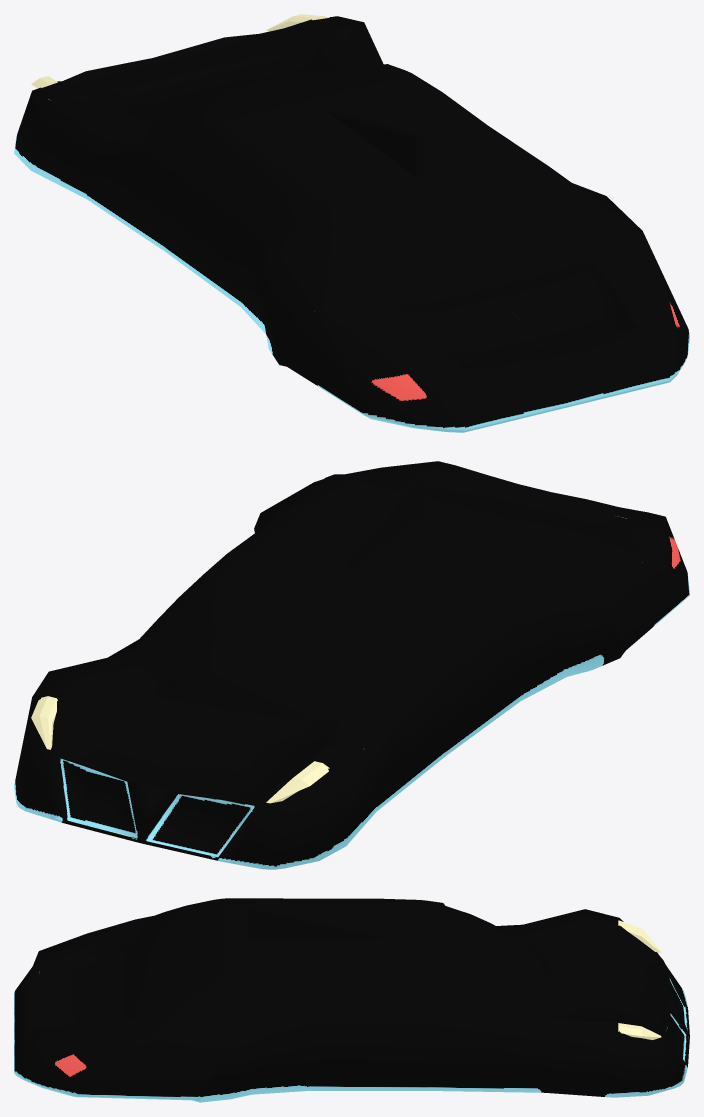
File: VoitureVinnie.glb
The picture shows the model from 3 angles, top to bottom: view 1: azimuth 30°, elevation 25°; view 2: azimuth 150°, elevation 25°; view 3: azimuth 270°, elevation 25°; orthographic projection. The views are drawn at different scales.
Parts seen in each view (by area): view 1: Cube.004; view 2: Cube.004; view 3: Cube.004.
Part boxes in pixels (left/top/right/bottom): Cube.004: left=14, top=14, right=689, bottom=432; Cube.004: left=14, top=461, right=689, bottom=869; Cube.004: left=14, top=898, right=689, bottom=1102.
Bounding box in the file's own units: 2.19 × 0.9947 × 4.68.
1 material, 1 textured.
